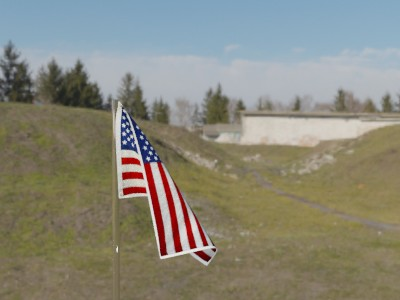American Flag: (116, 100, 222, 267)
